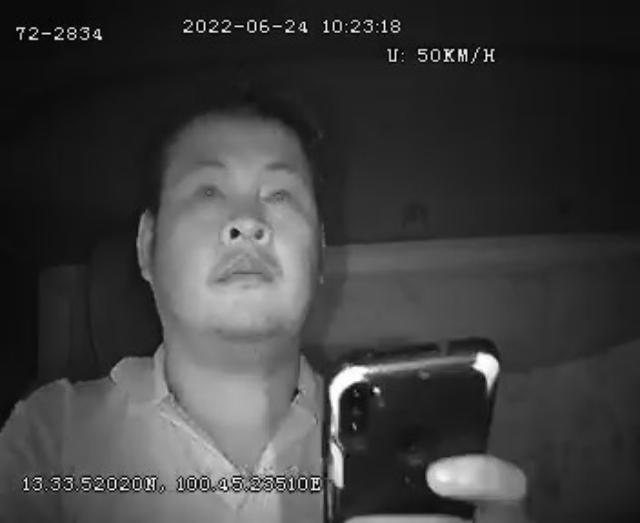PhoneUse: (318, 335, 506, 523)
SafeDriving: (184, 168, 231, 214)
